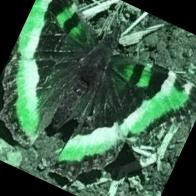butterfly: (0, 0, 193, 182)
